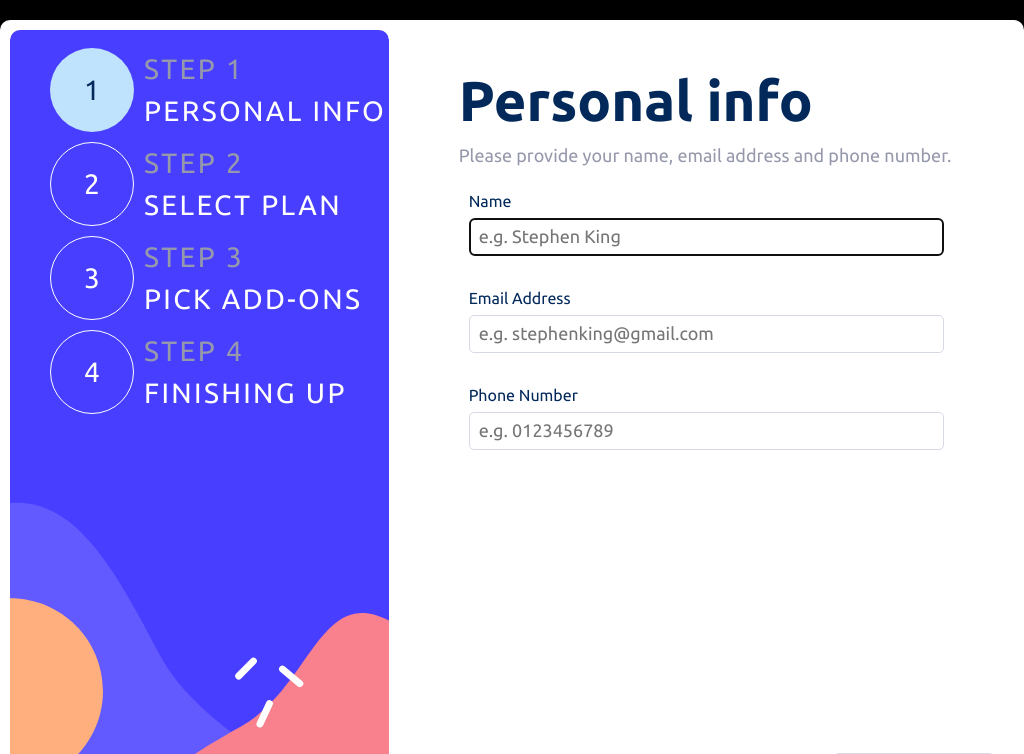
page container suite › clicking back button takes us back to personal info step
Type "Stephen King" into the field with placeholder "e.g. Stephen King".
click(706, 237); type("Stephen King")  # box [469, 218, 944, 256]
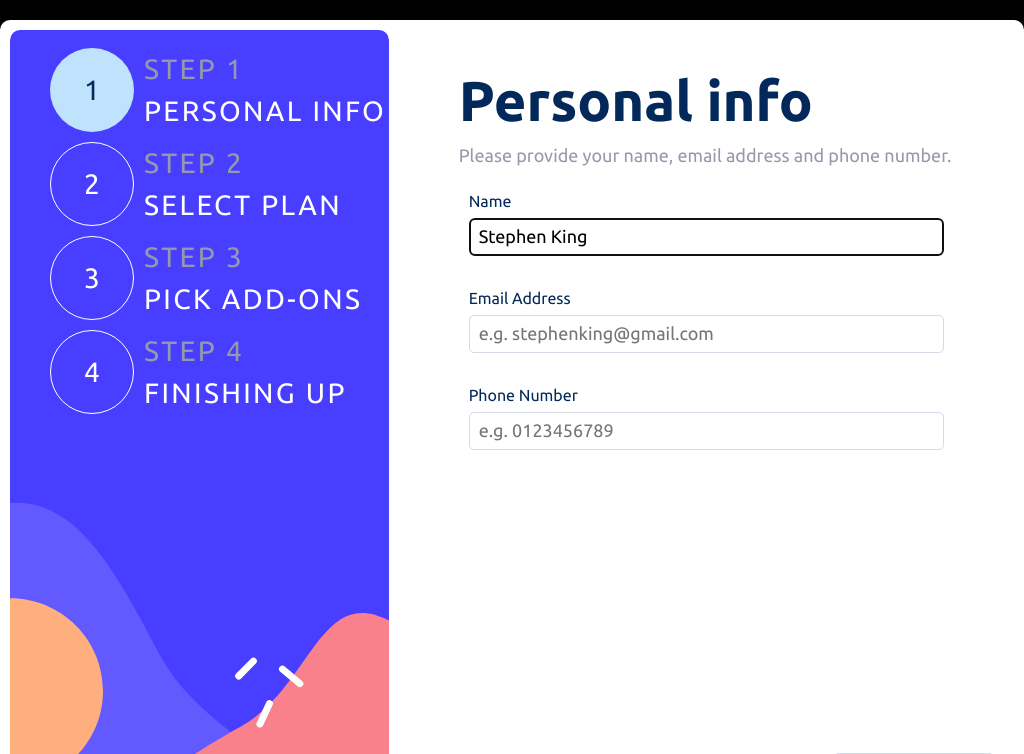
Type "stephenking@gmail.com" into the field with placeholder "e.g. stephenking@gmail.com".
click(706, 334); type("stephenking@gmail.com")  # box [469, 315, 944, 353]
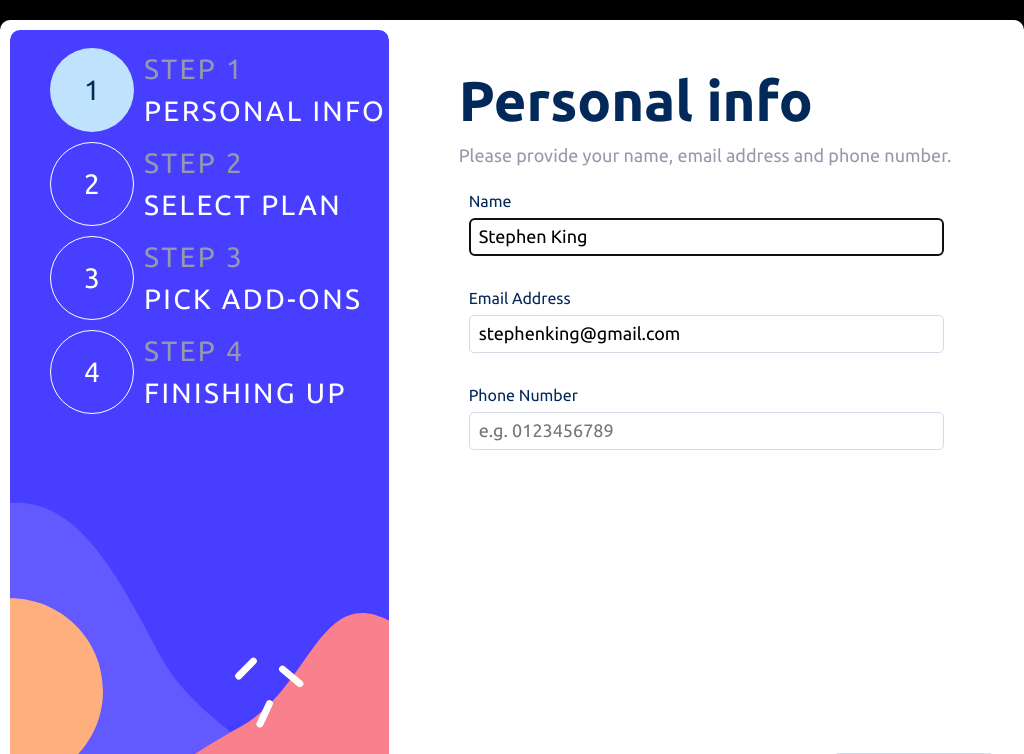
Type "0123456789" into the field with placeholder "e.g. 0123456789".
click(706, 431); type("0123456789")  # box [469, 412, 944, 450]
(page scrolled)
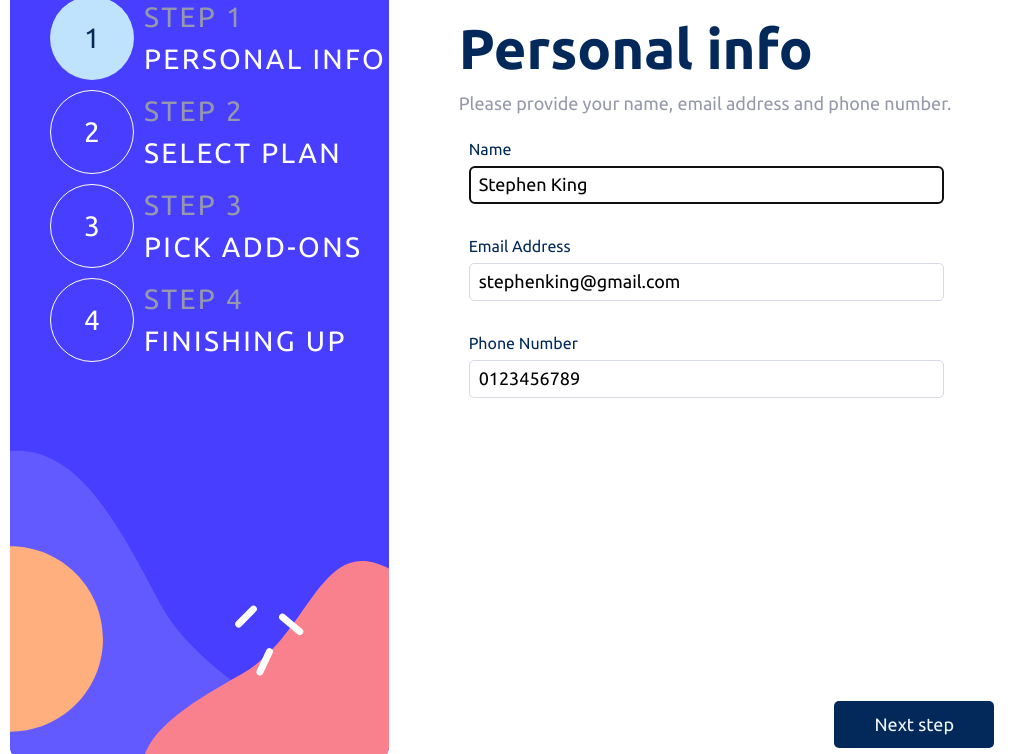
Click the button "Next step".
click(914, 724)  # box [834, 701, 994, 748]
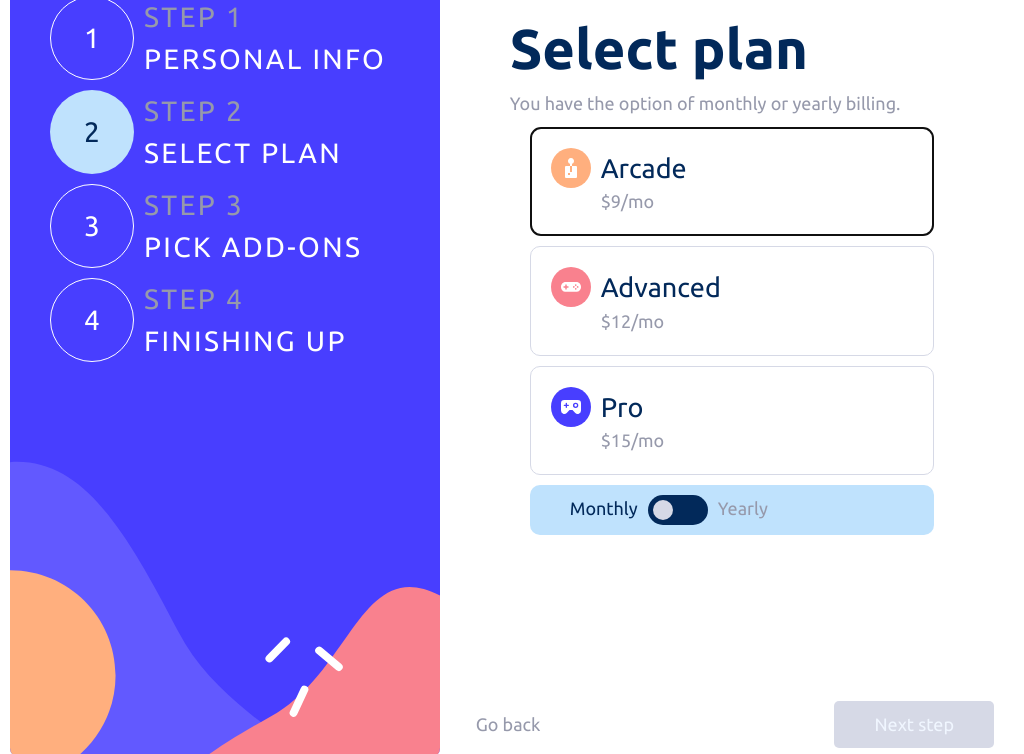
Click the button "Go back".
click(508, 724)  # box [470, 701, 546, 748]
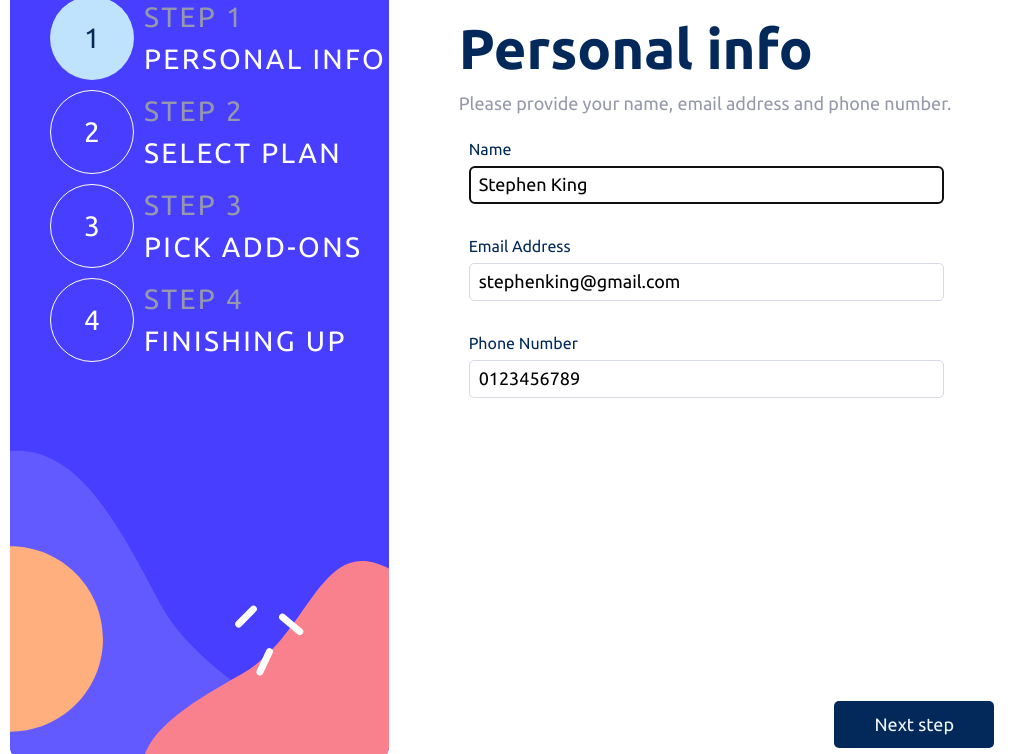
expect the field with placeholder "e.g. Stephen King" is shown: met, box [469, 166, 944, 204]
